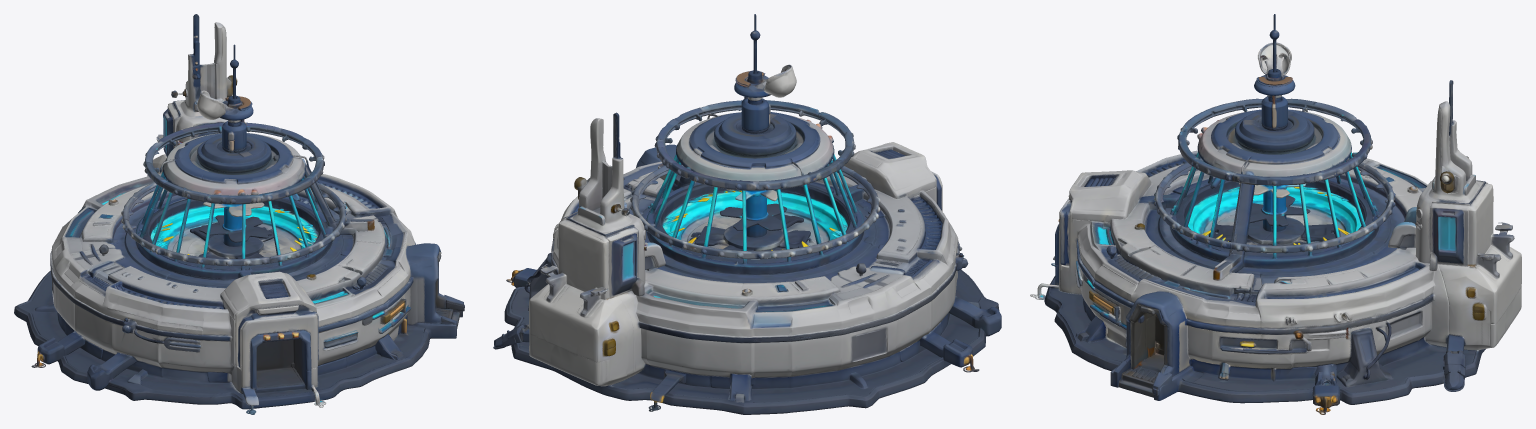
The model's file is tech_lab.glb.
The picture shows the model from 3 angles, left to right: view 1: azimuth 30°, elevation 25°; view 2: azimuth 150°, elevation 25°; view 3: azimuth 270°, elevation 25°; orthographic projection. The views are drawn at different scales.
Visible parts, largest first — view 1: FC_housing, FC_scanner; view 2: FC_housing, FC_scanner; view 3: FC_housing, FC_scanner.
Boxes of the visible parts, bbox=[...] form: FC_housing: bbox=[14, 14, 464, 414]; FC_scanner: bbox=[197, 44, 253, 152]; FC_housing: bbox=[493, 100, 1001, 414]; FC_scanner: bbox=[734, 14, 796, 130]; FC_housing: bbox=[1030, 80, 1521, 414]; FC_scanner: bbox=[1254, 14, 1295, 128].
Bounding box in the file's own units: 0.9785 × 0.6399 × 0.956.
Materials: 1 (1 with a texture image).
